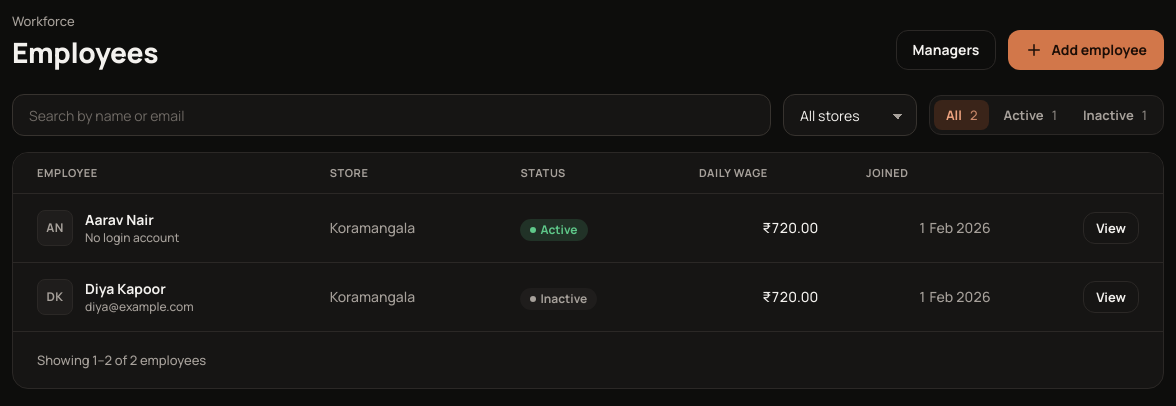
Test: EmployeesPage › filters client-side by search term
The width and height of the screenshot is (1176, 406).
expect the text "Aarav Nair" is shown: met, box [85,210,154,229]
Step 1. Type "Diya" into the search field named "search employees" → x=391, y=115, box [12,94,771,136]
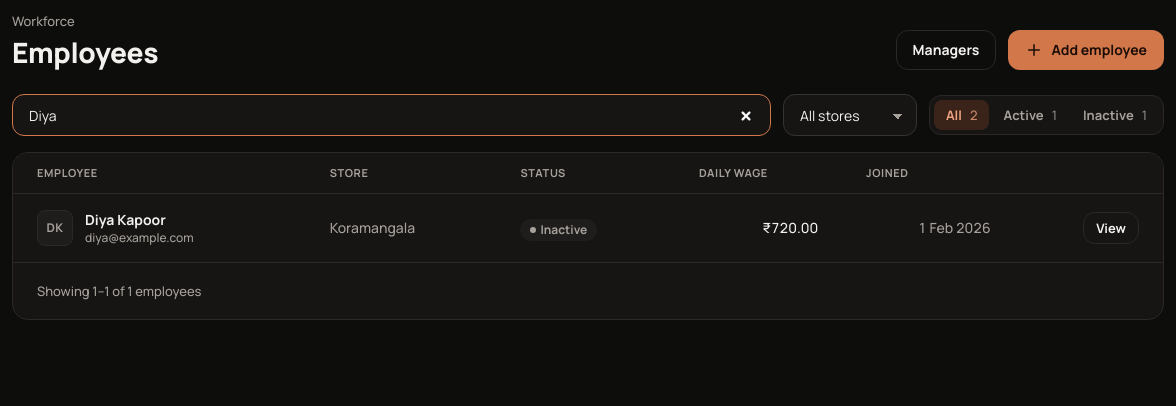
expect the text "Diya Kapoor" is shown: met, box [85,210,166,229]
expect the text "Aarav Nair" is gone: met
